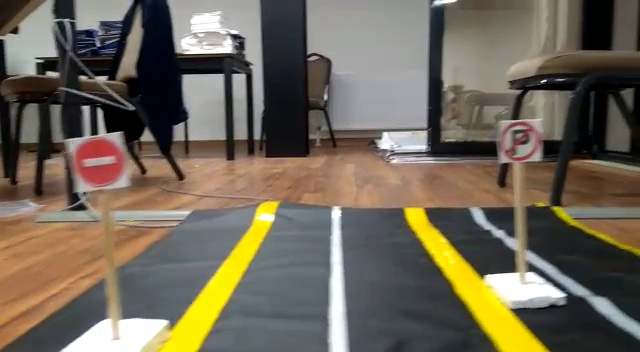girisi_olmayan_yol: (72, 137, 126, 187)
park_yapilmaz: (499, 120, 543, 161)
